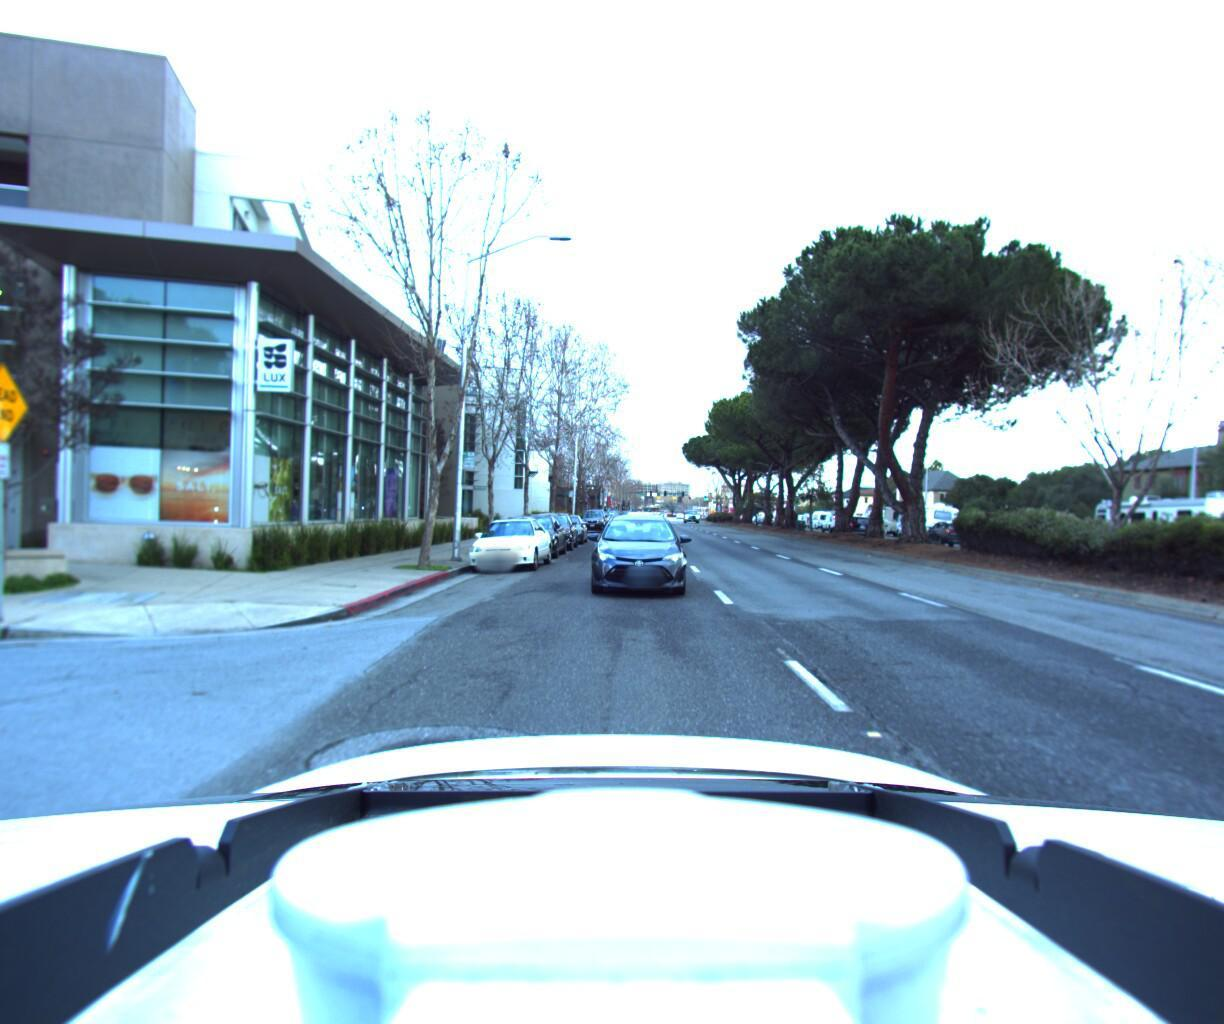car: (582, 513, 681, 601), (457, 513, 552, 579), (491, 511, 566, 564), (519, 510, 576, 554), (539, 513, 587, 546), (828, 510, 869, 535), (816, 506, 850, 530), (577, 507, 606, 533)
other_vehicle: (1079, 485, 1224, 573), (890, 500, 961, 542)
